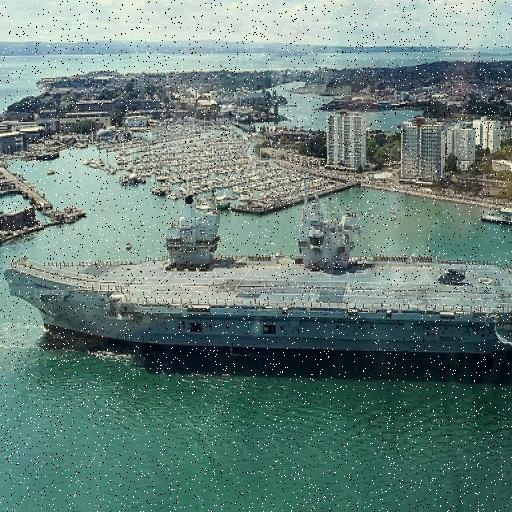Portanaves: (1, 175, 512, 375)
